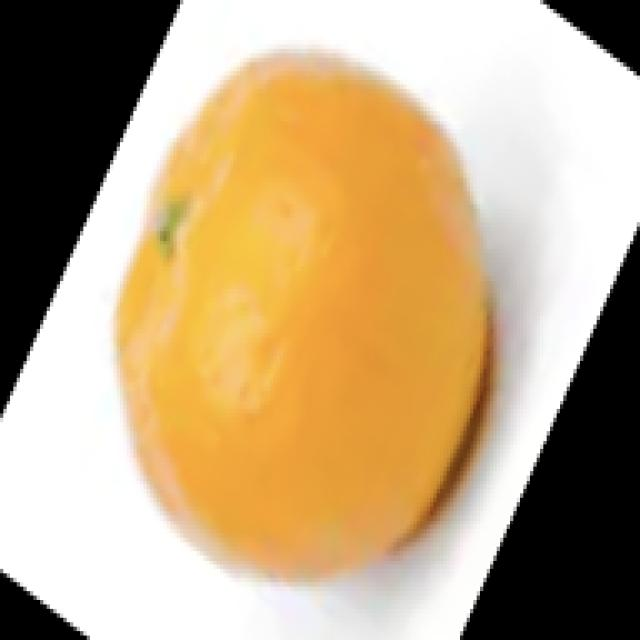matang: (118, 56, 484, 578)
